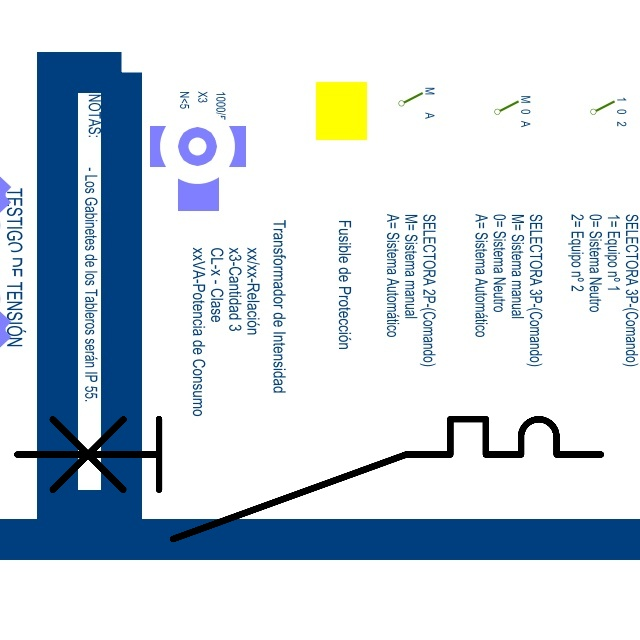interruptor_termomagnetico: (2, 404, 616, 554)
